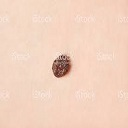Melanoma: (47, 54, 73, 80)
